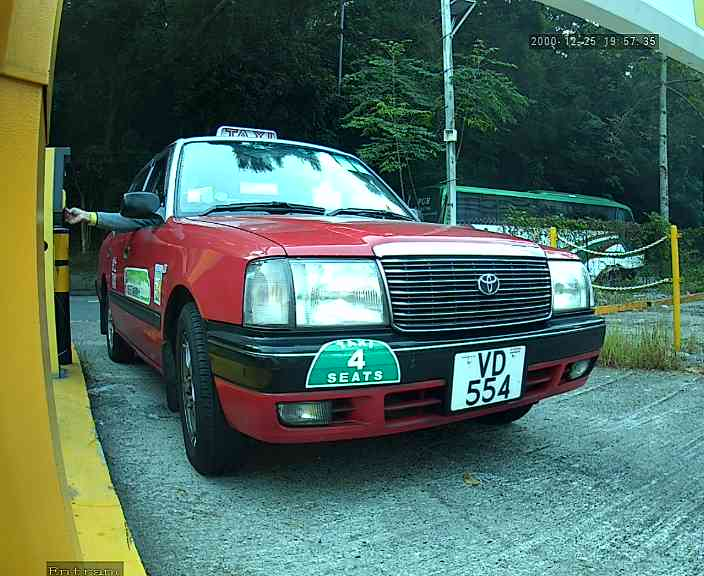taxi: (61, 114, 620, 490)
taxi_mark: (294, 328, 413, 399)
